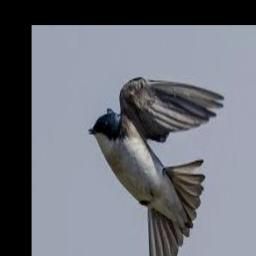Swallow: (89, 77, 224, 256)
